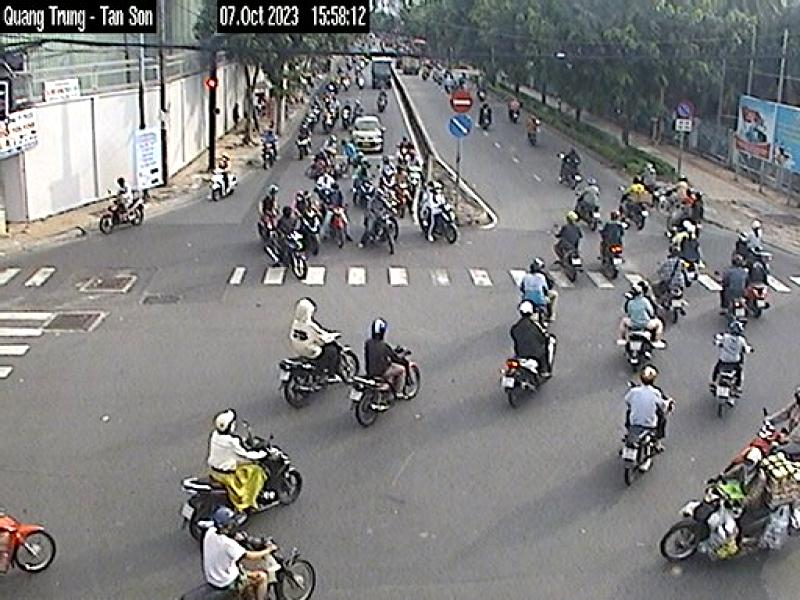motorcycle: (150, 429, 325, 534), (159, 534, 339, 600), (337, 338, 467, 426), (639, 492, 777, 569), (258, 331, 357, 409), (491, 336, 575, 407), (608, 399, 663, 488)
